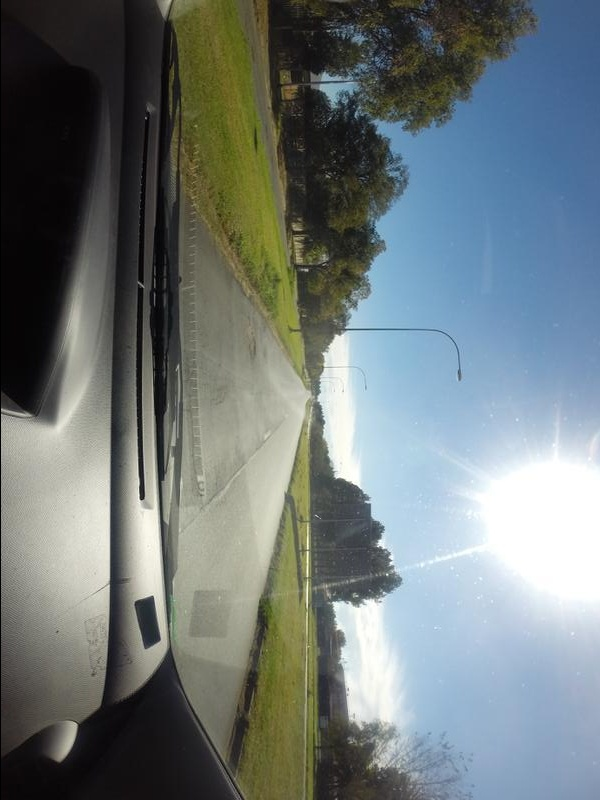pothole: (245, 325, 259, 374)
